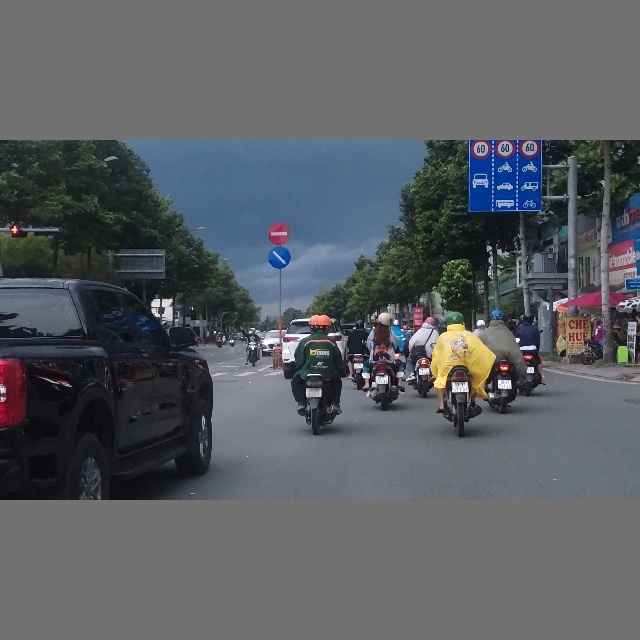P.102: (267, 222, 290, 245)
R.302a: (268, 245, 291, 269)
R.415a: (469, 140, 542, 212)
